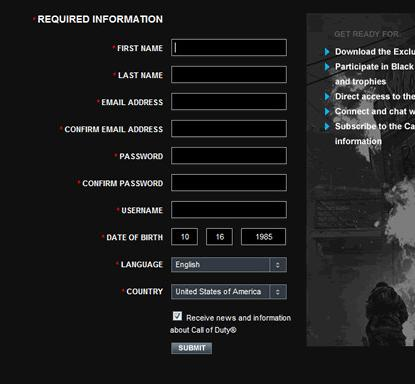button: (169, 342, 213, 354)
checkbox: (171, 310, 185, 321)
checkbox_with_label: (170, 308, 291, 323)
field: (168, 91, 288, 110), (167, 172, 287, 191), (169, 146, 288, 165), (168, 65, 287, 83), (169, 119, 288, 137), (168, 200, 287, 218), (169, 255, 288, 273), (170, 38, 286, 55), (170, 283, 286, 299), (239, 227, 286, 246), (168, 226, 199, 245), (205, 227, 234, 246)
field_with_label: (63, 117, 290, 139), (99, 89, 290, 112), (82, 171, 289, 192), (119, 144, 290, 167), (115, 62, 289, 84), (117, 37, 288, 57), (120, 254, 290, 274), (120, 199, 288, 219), (126, 281, 288, 301), (105, 224, 200, 246)
